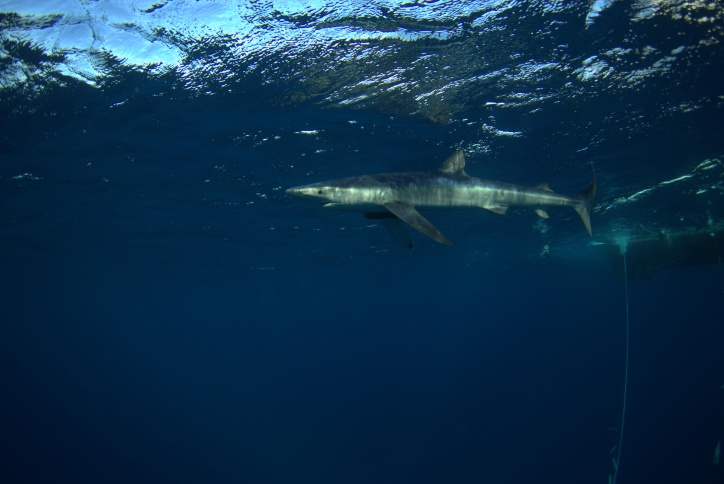Azul: (267, 138, 613, 274)
